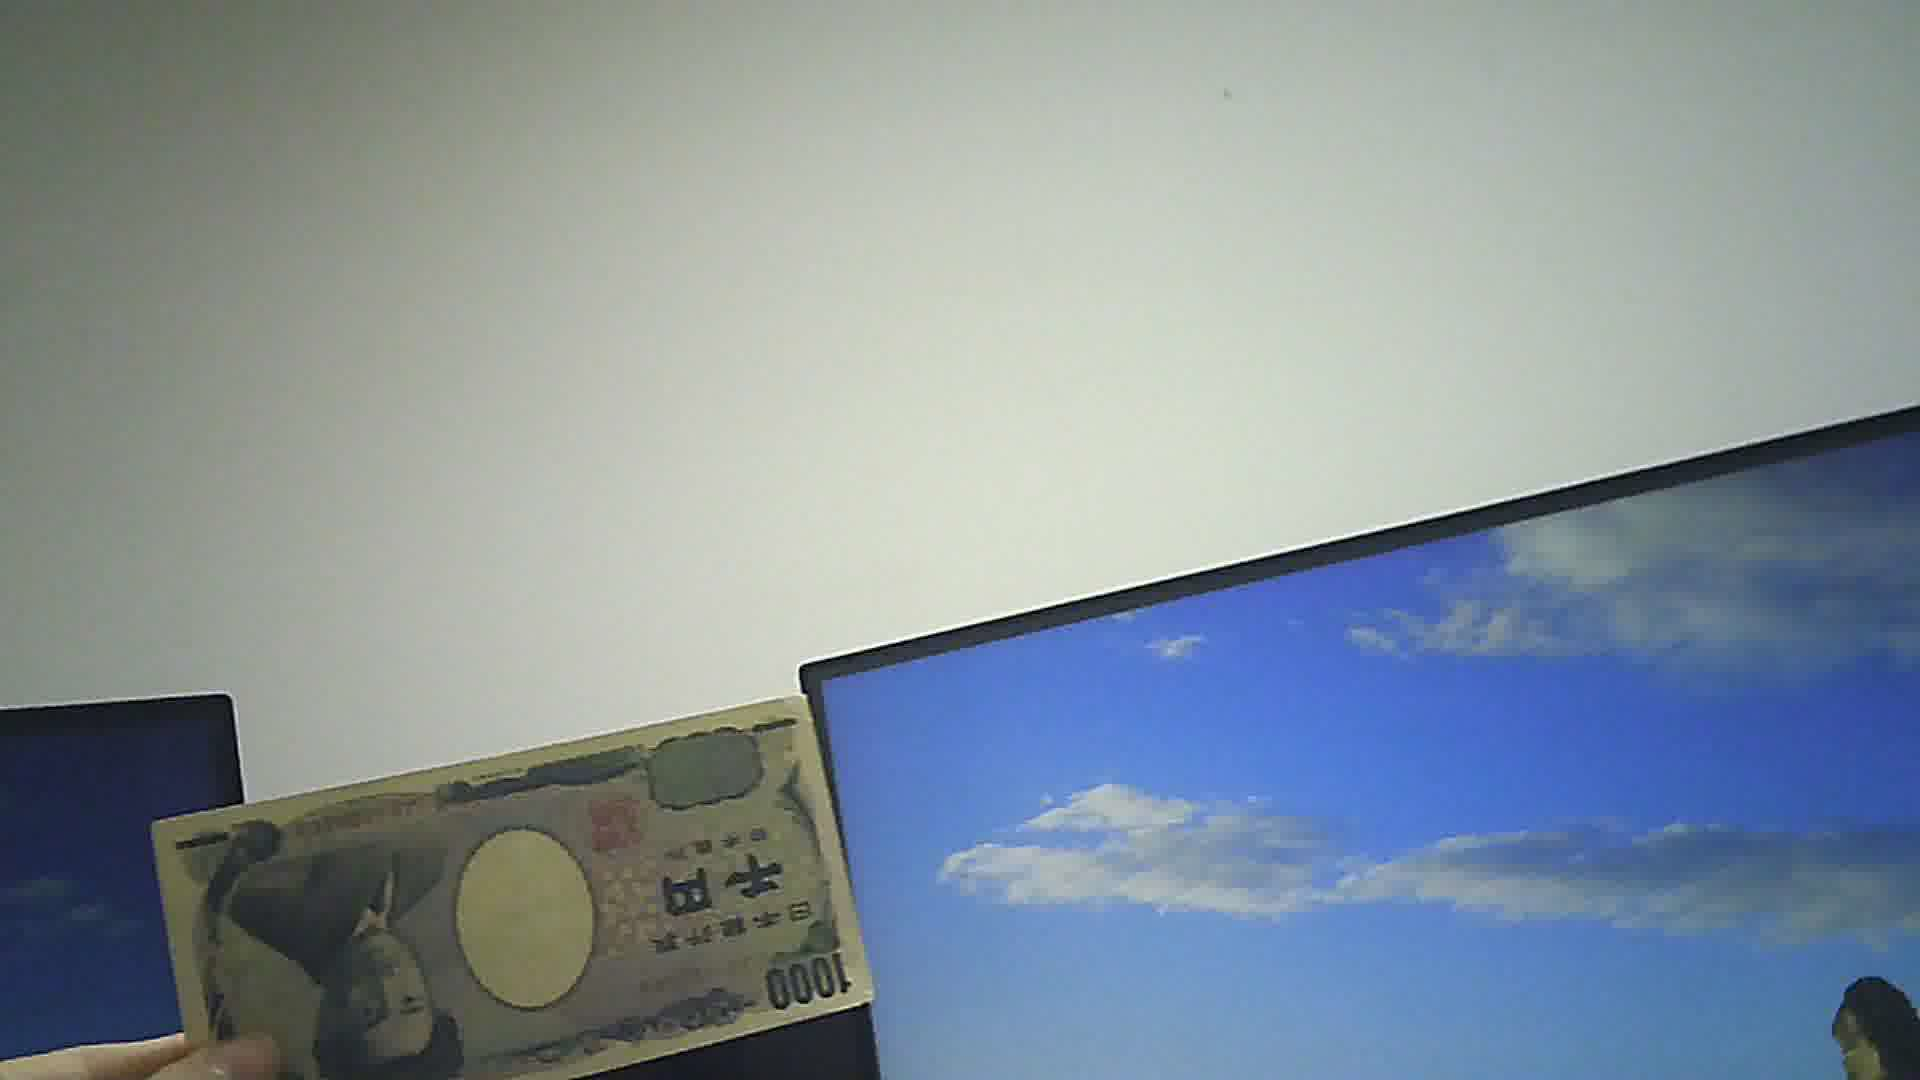1,000 Yen: (146, 695, 891, 1079)
